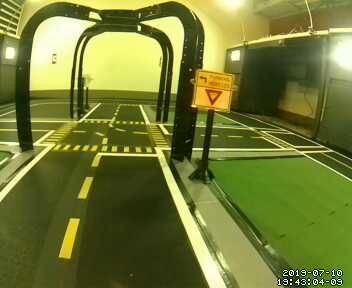Turn Yield: (191, 68, 234, 112)
